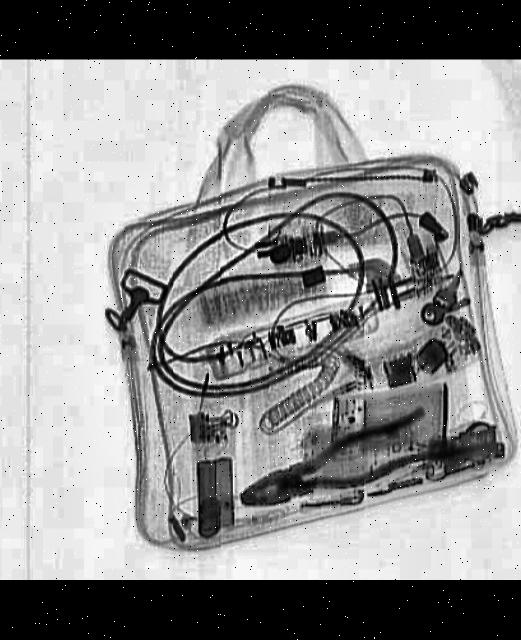Pliers: (229, 405, 444, 524)
